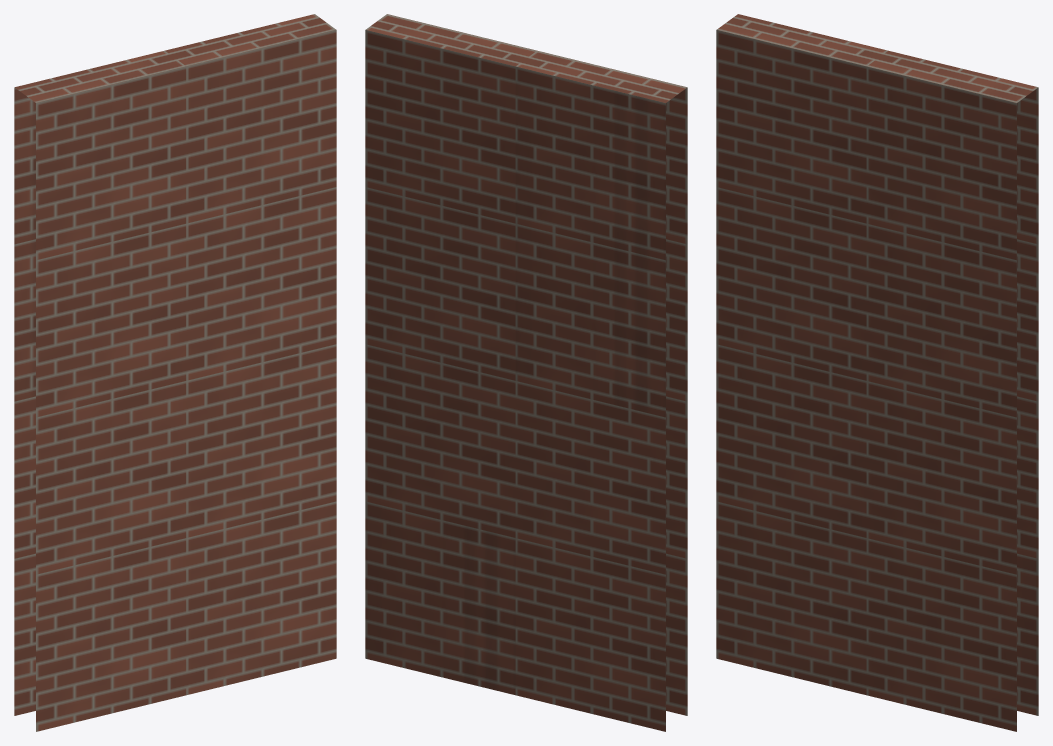
The model's file is wall_brick_stained.fbx.
3 renders of one model, left to right at view 1: azimuth 30°, elevation 25°; view 2: azimuth 150°, elevation 25°; view 3: azimuth 330°, elevation 25°, orthographic.
Visible parts, largest first — view 1: wall_brick_stained; view 2: wall_brick_stained; view 3: wall_brick_stained.
Part boxes in pixels (x1,y1,x2,y2): wall_brick_stained: (14, 14, 336, 731); wall_brick_stained: (365, 14, 687, 731); wall_brick_stained: (716, 14, 1038, 731).
Bounding box in the file's own units: 2 × 4 × 0.25.
1 material, 1 textured.
